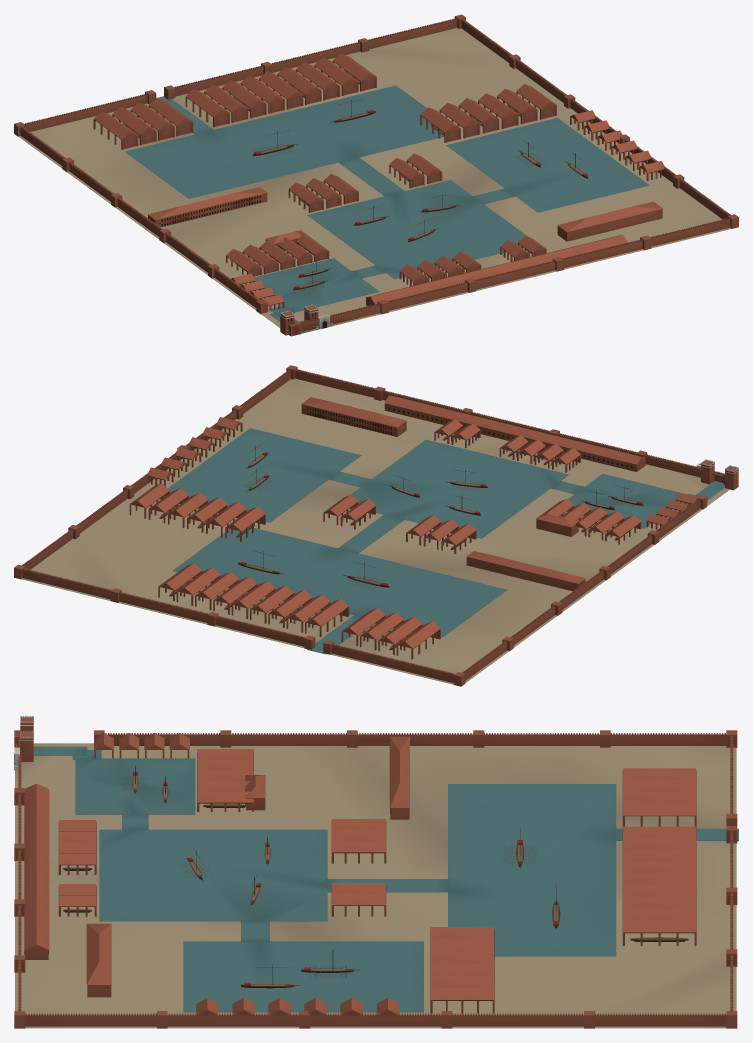
The model's file is arsenale.glb.
The picture shows the model from 3 angles, top to bottom: view 1: azimuth 30°, elevation 25°; view 2: azimuth 150°, elevation 25°; view 3: azimuth 270°, elevation 25°; orthographic projection. The views are drawn at different scales.
Visible parts, largest first — view 1: p0_ground, p2_slipways, p1_gates, p3_galleys; view 2: p0_ground, p2_slipways, p1_gates, p3_galleys; view 3: p0_ground, p2_slipways, p1_gates, p3_galleys.
Boxes of the visible parts, left/top/right/bottom form: p0_ground: left=18, top=28, right=731, bottom=333; p2_slipways: left=93, top=53, right=664, bottom=311; p1_gates: left=14, top=14, right=738, bottom=336; p3_galleys: left=252, top=99, right=588, bottom=292; p0_ground: left=21, top=378, right=729, bottom=684; p2_slipways: left=129, top=395, right=698, bottom=659; p1_gates: left=14, top=365, right=738, bottom=686; p3_galleys: left=238, top=444, right=643, bottom=589; p0_ground: left=15, top=743, right=738, bottom=1028; p2_slipways: left=24, top=733, right=696, bottom=1015; p1_gates: left=14, top=716, right=737, bottom=1028; p3_galleys: left=123, top=765, right=560, bottom=988.
Size of the model in its own units: 565 by 23.99 by 603.
